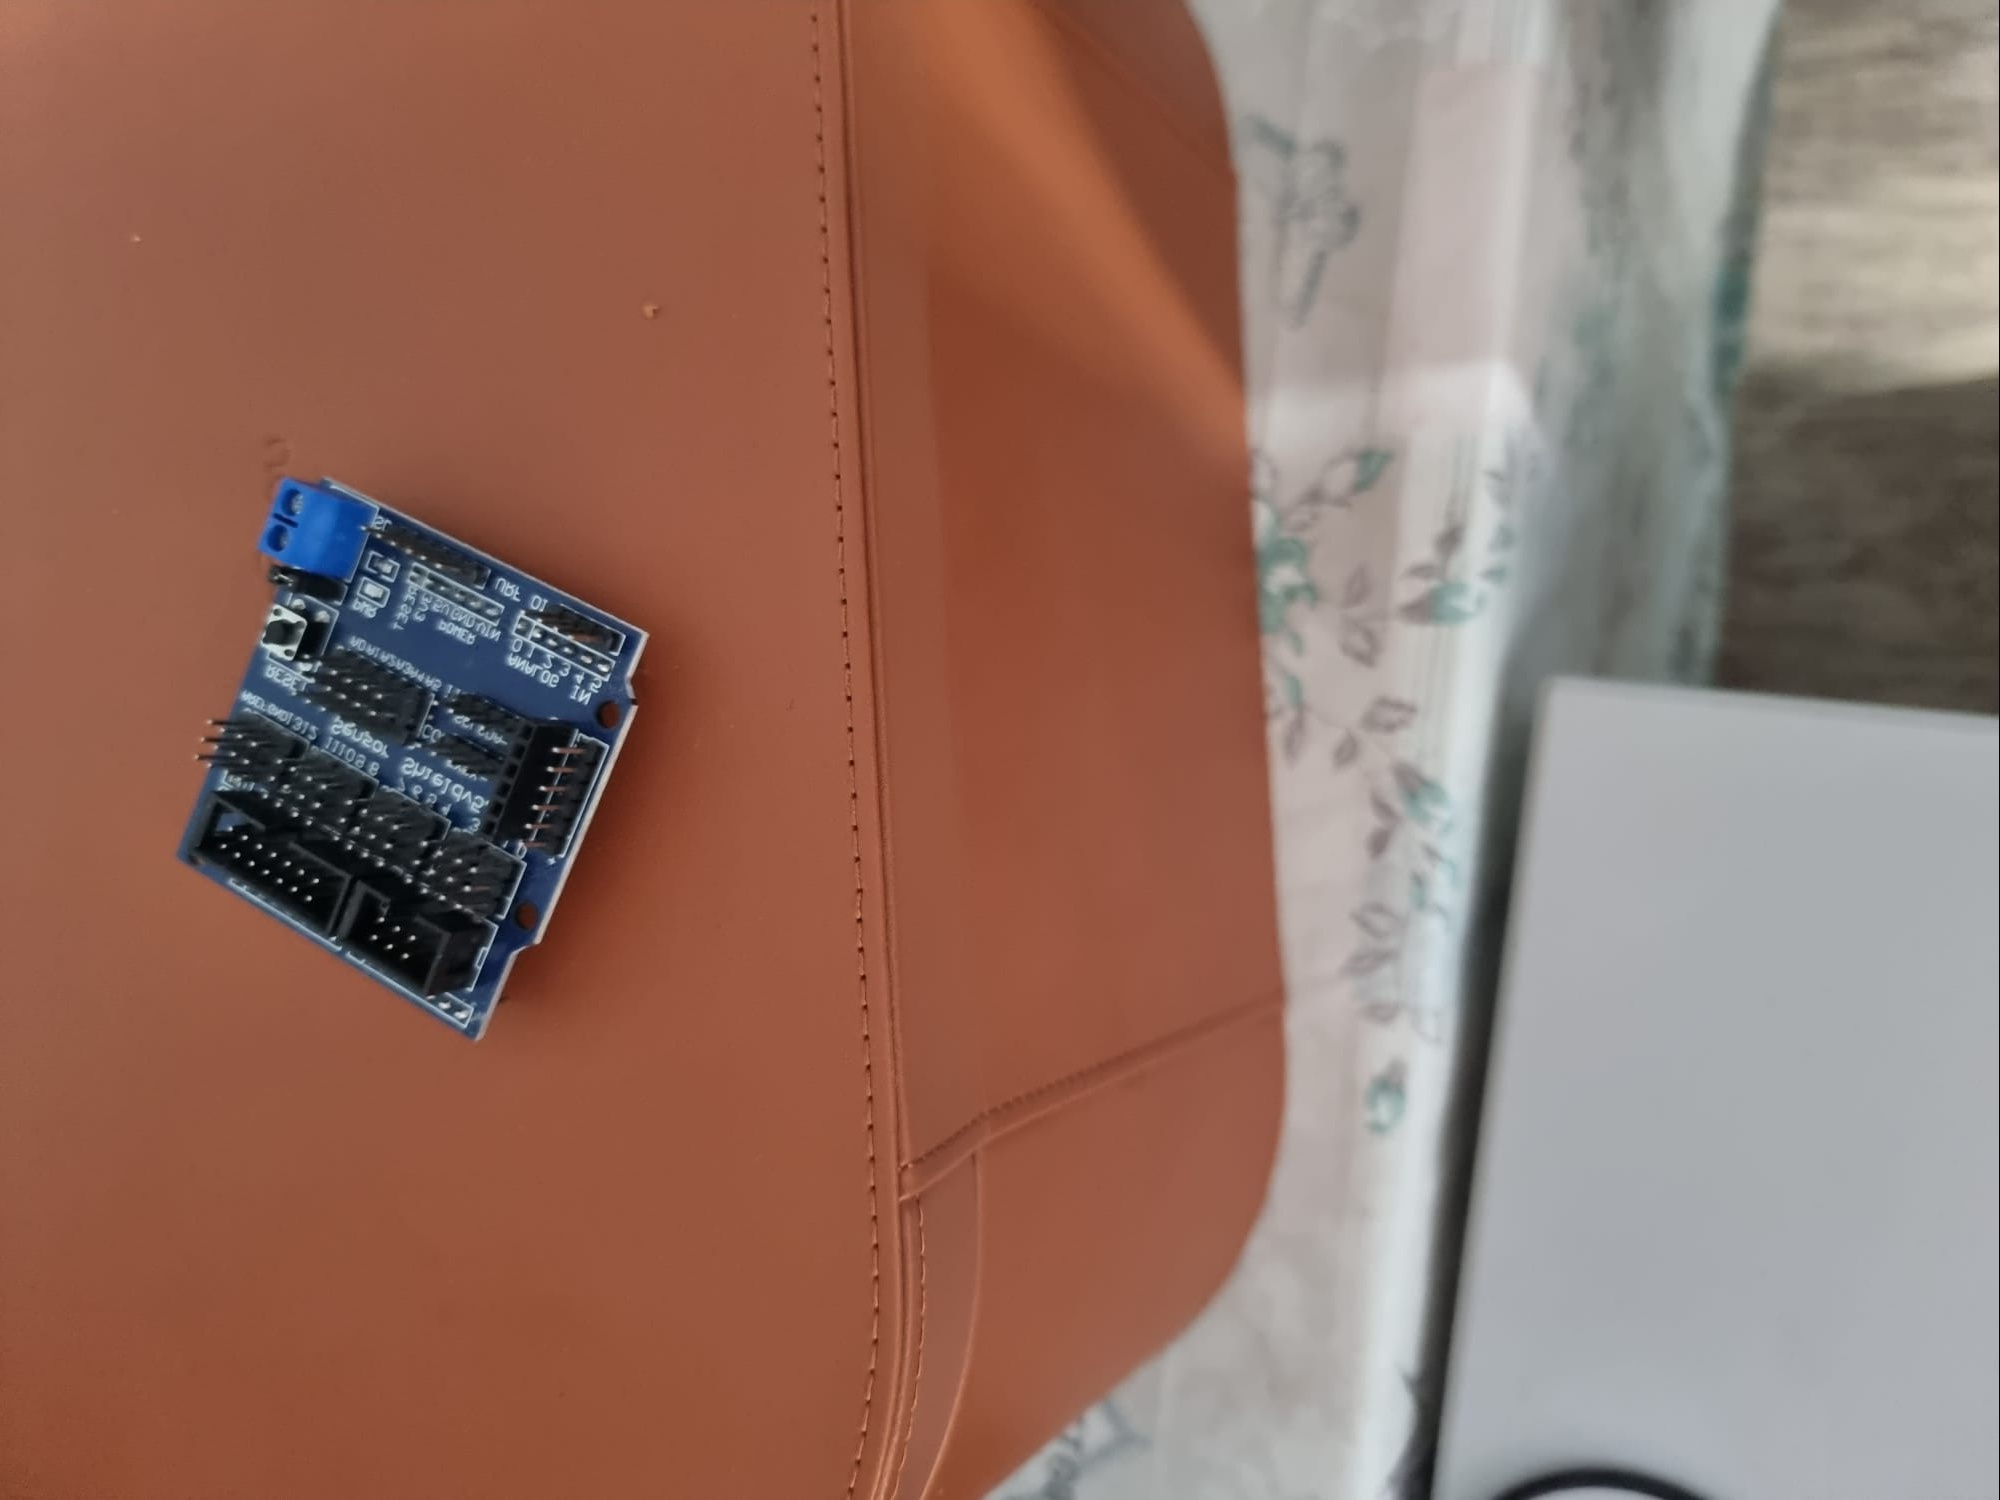5V EXPANSION: (159, 476, 650, 1059)
